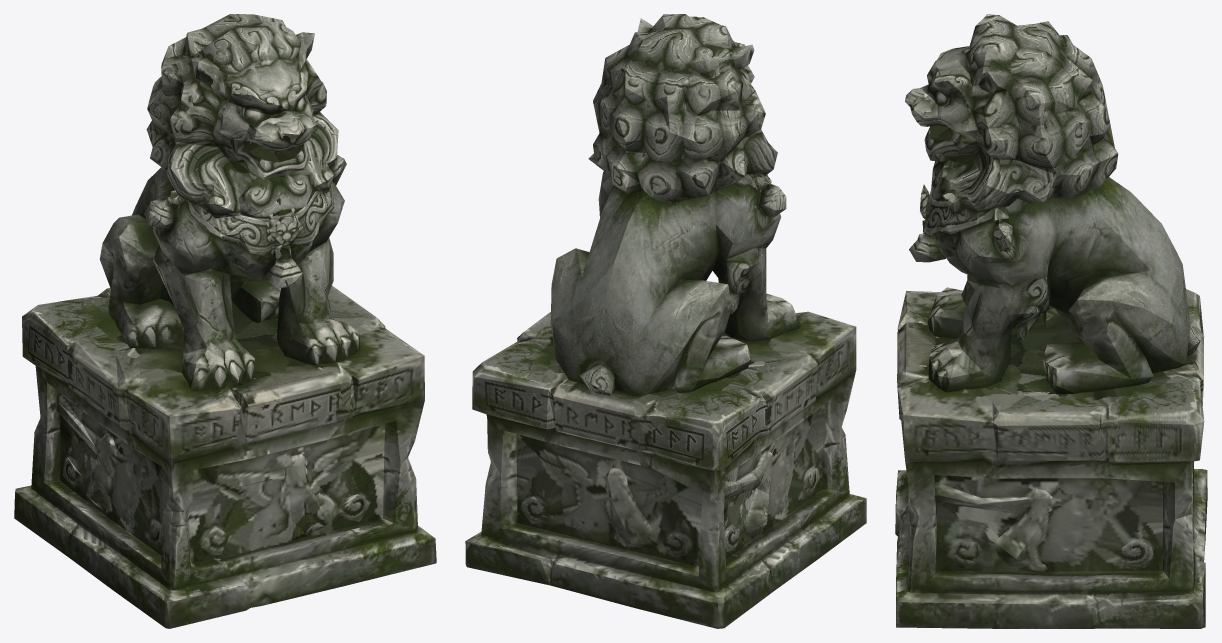
File: lion_statue.glb
The picture shows the model from 3 angles, left to right: view 1: azimuth 30°, elevation 25°; view 2: azimuth 150°, elevation 25°; view 3: azimuth 270°, elevation 25°; orthographic projection. The views are drawn at different scales.
Visible parts, largest first — view 1: Mesh; view 2: Mesh; view 3: Mesh.
Boxes of the visible parts, x1,y1,x2,y2 form: Mesh: [14, 14, 436, 628]; Mesh: [465, 14, 866, 628]; Mesh: [895, 14, 1207, 628].
Bounding box in the file's own units: 0.5362 × 1 × 0.5292.
1 material, 1 textured.
